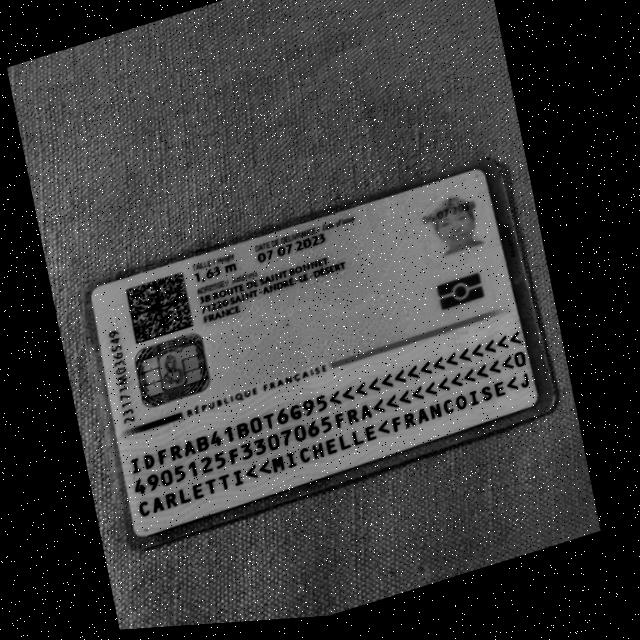card: (89, 167, 540, 541)
